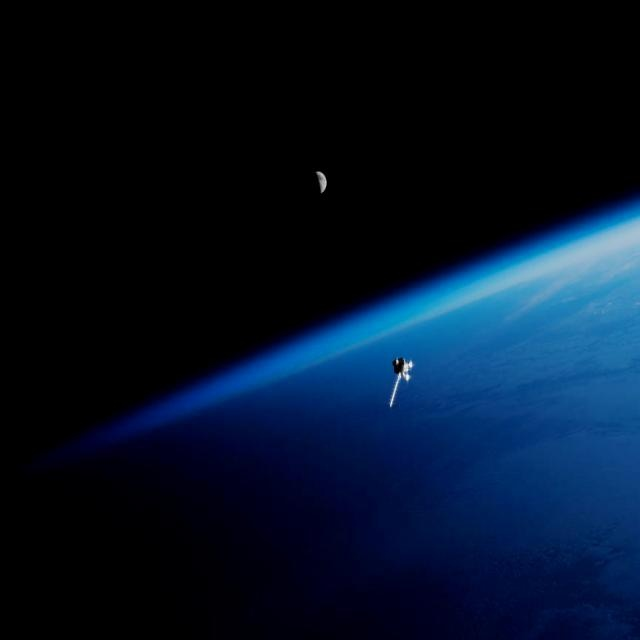satellite: (380, 335, 428, 419)
